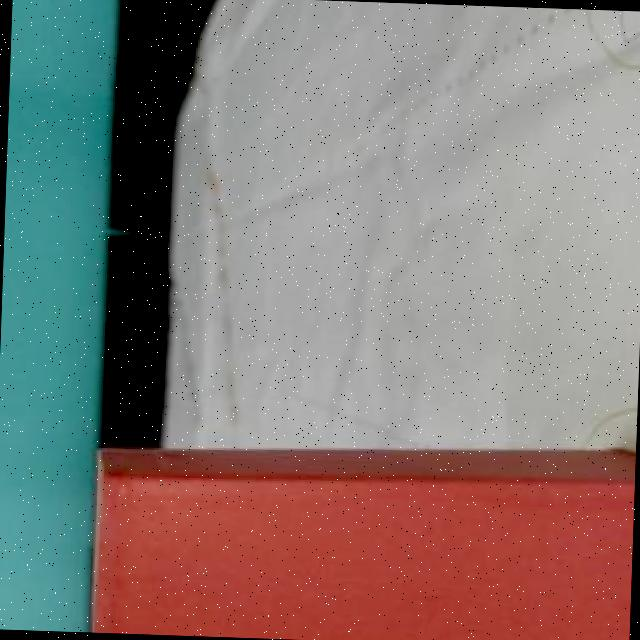redbox: (86, 428, 636, 640)
